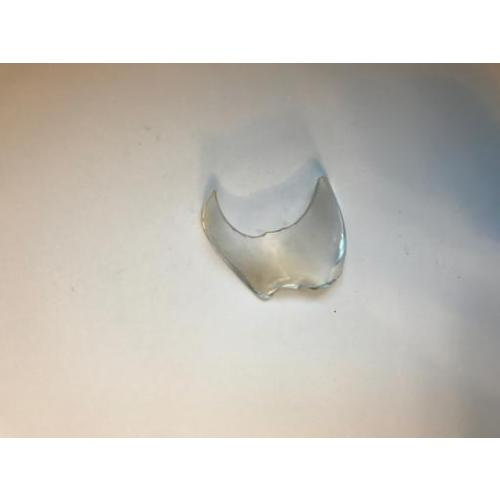glass: (212, 208, 344, 301)
